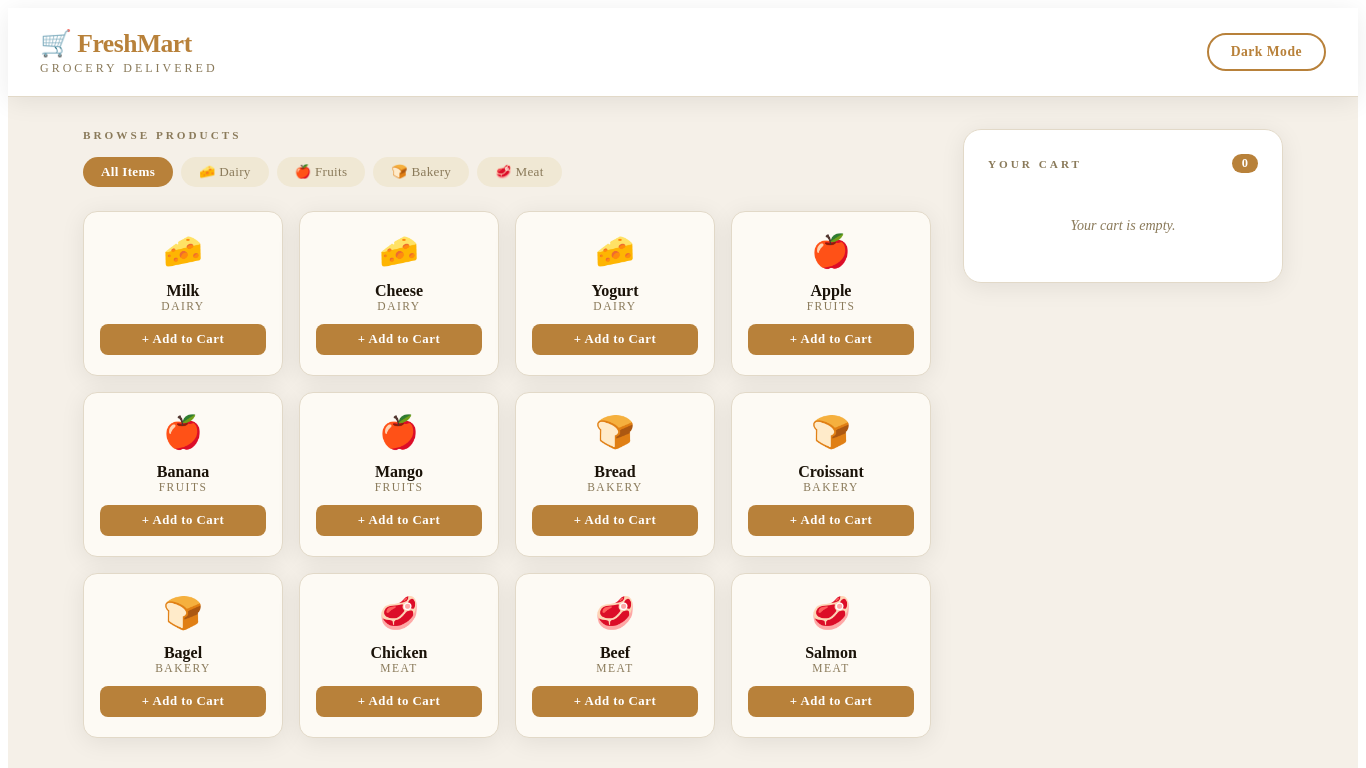
Test: ShoppingApp › Category filtering › shows only Dairy products when Dairy filter is selected
This screenshot has width=1366, height=768.
Step 1. Click the button "🧀 Dairy" → (225, 172), box [181,157,269,187]
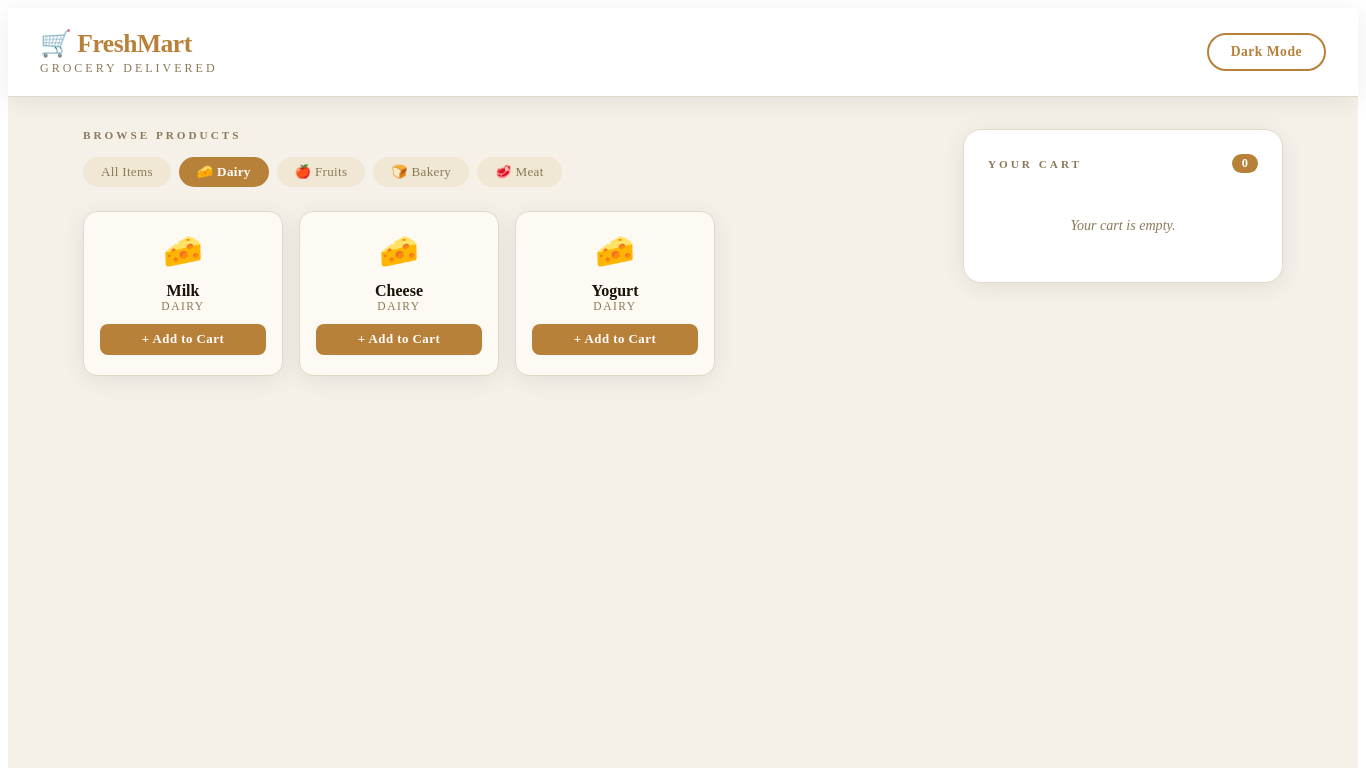
expect the text "Milk" is shown: met, box [166,282,199,299]
expect the text "Apple" is gone: met
